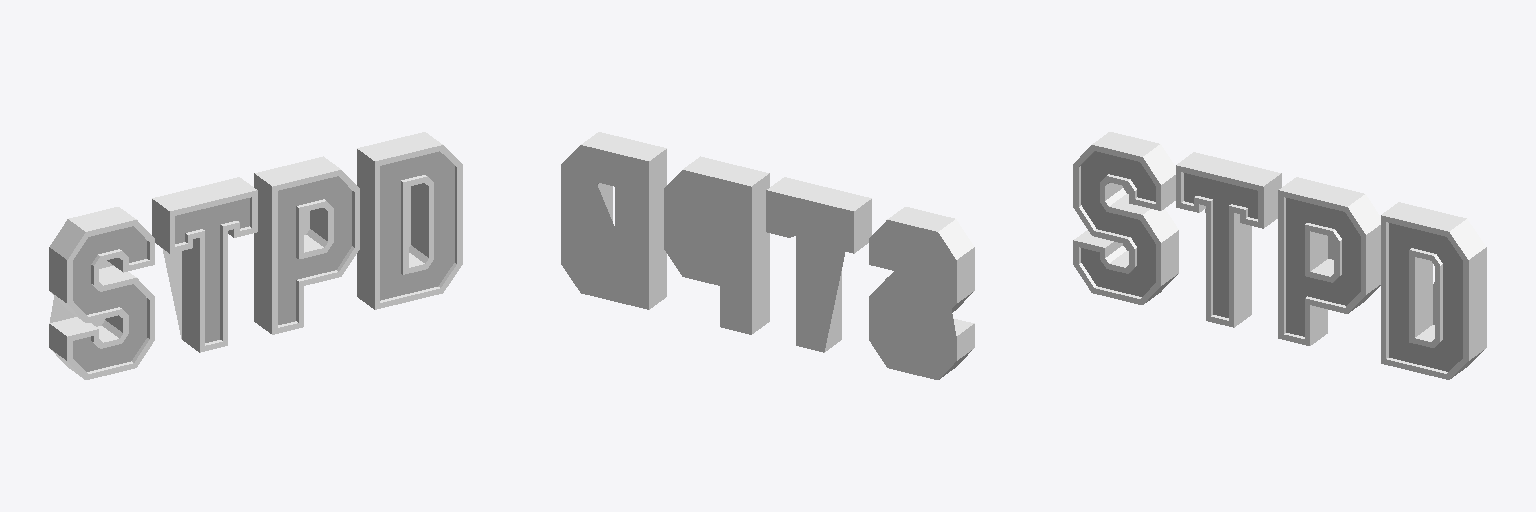
Rendered from word.5.obj.
The picture shows the model from 3 angles: view 1: azimuth 30°, elevation 25°; view 2: azimuth 150°, elevation 25°; view 3: azimuth 330°, elevation 25°; orthographic projection.
Parts seen in each view (by area): view 1: Text.003; view 2: Text.003; view 3: Text.003.
Part boxes in pixels (left/top/right/bottom): Text.003: left=49, top=132, right=462, bottom=379; Text.003: left=561, top=132, right=974, bottom=379; Text.003: left=1073, top=132, right=1486, bottom=379.
Size of the model in its own units: 2.3 by 0.8262 by 0.1817.